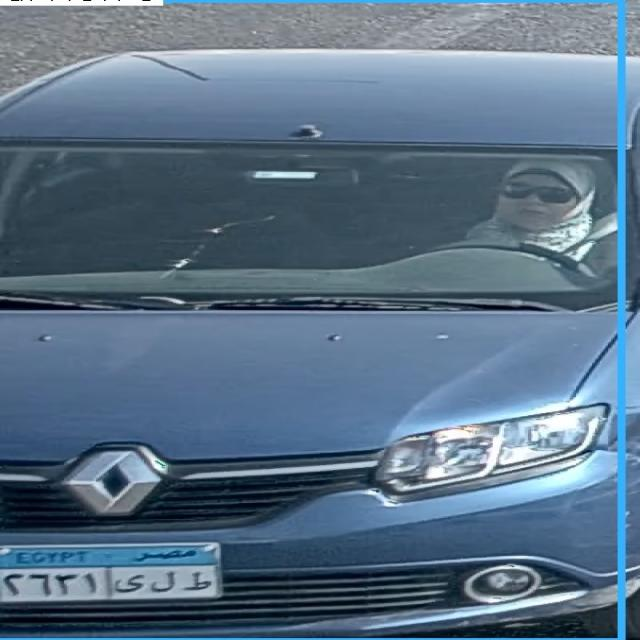windshield: (5, 136, 637, 306)
